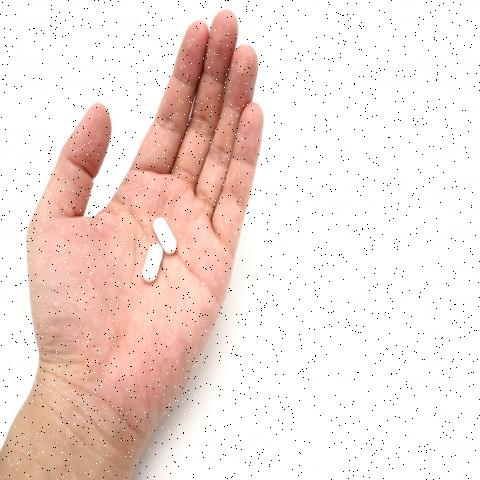hands: (149, 210, 189, 260), (138, 240, 166, 286)
